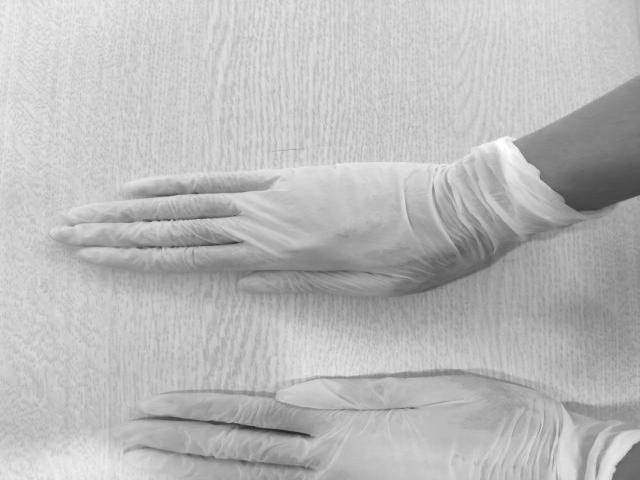gloved: (54, 159, 468, 296), (110, 373, 582, 480)
